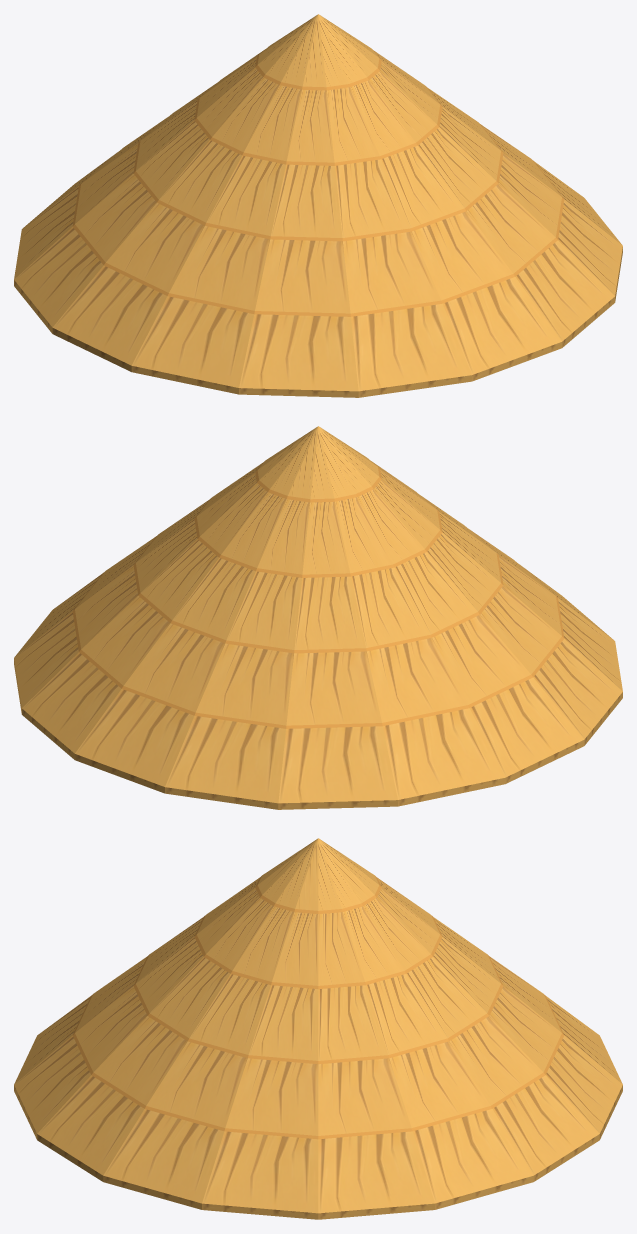
Rendered from rc_wa_roof_thatchcone_12m.glb.
The picture shows the model from 3 angles, top to bottom: view 1: azimuth 30°, elevation 25°; view 2: azimuth 150°, elevation 25°; view 3: azimuth 270°, elevation 25°; orthographic projection.
Visible parts, largest first — view 1: SM_RC_WA_ThatchCone_12m; view 2: SM_RC_WA_ThatchCone_12m; view 3: SM_RC_WA_ThatchCone_12m.
Boxes of the visible parts, x1,y1,x2,y2 form: SM_RC_WA_ThatchCone_12m: (14,14,622,397); SM_RC_WA_ThatchCone_12m: (14,426,622,809); SM_RC_WA_ThatchCone_12m: (14,838,622,1219).
Bounding box in the file's own units: 12 × 5.5 × 12.
1 material, 1 textured.
